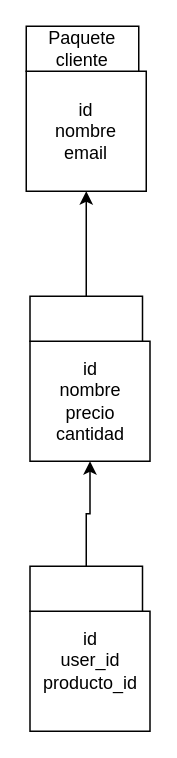
This 177x758 diagram has some shape labels left out. Here are the shapes that lost their labels. From the top down, the centre of each, then its label:
At point 85,318: "Paquete Producto".
At point 85,588: "Paquete Venta".
